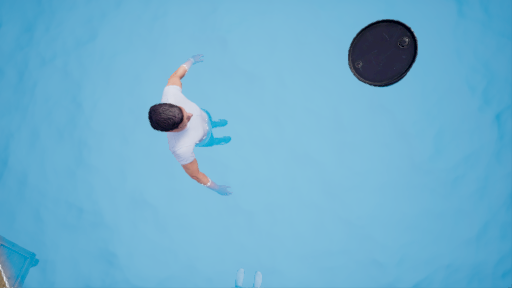person: (130, 53, 250, 191)
